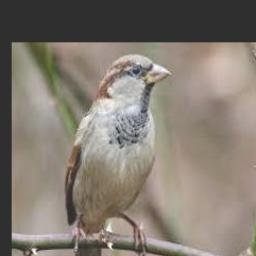Sparrow: (66, 54, 171, 256)
